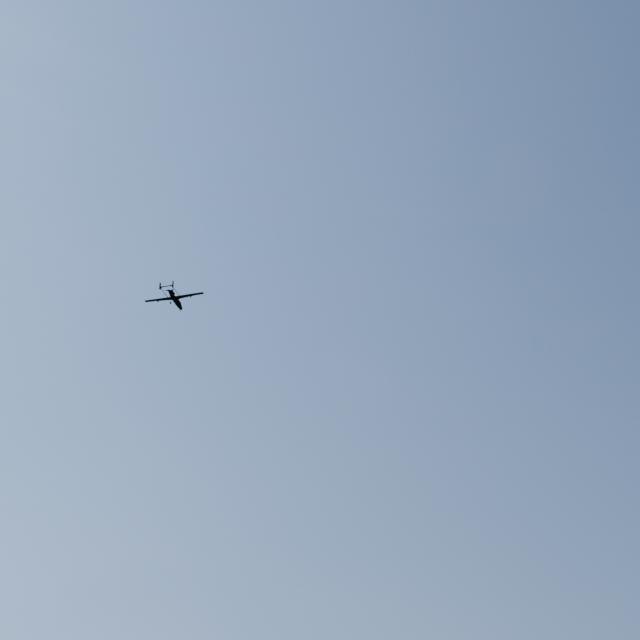Airaplan: (144, 280, 204, 311)
